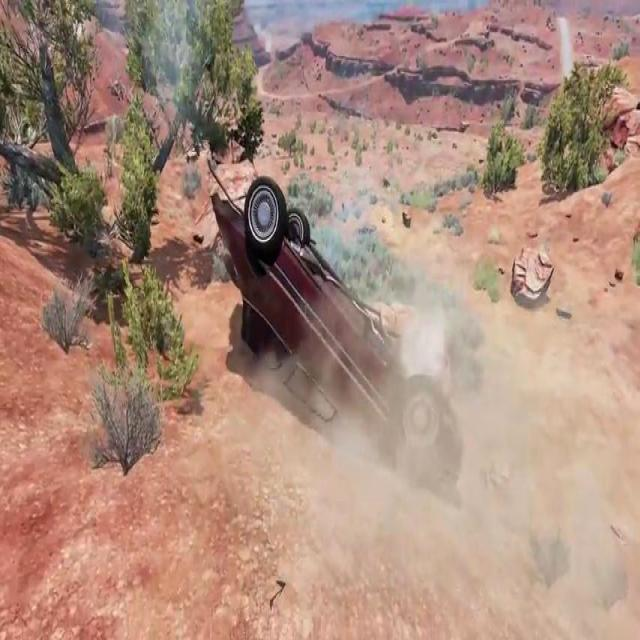severe: (205, 164, 466, 500)
